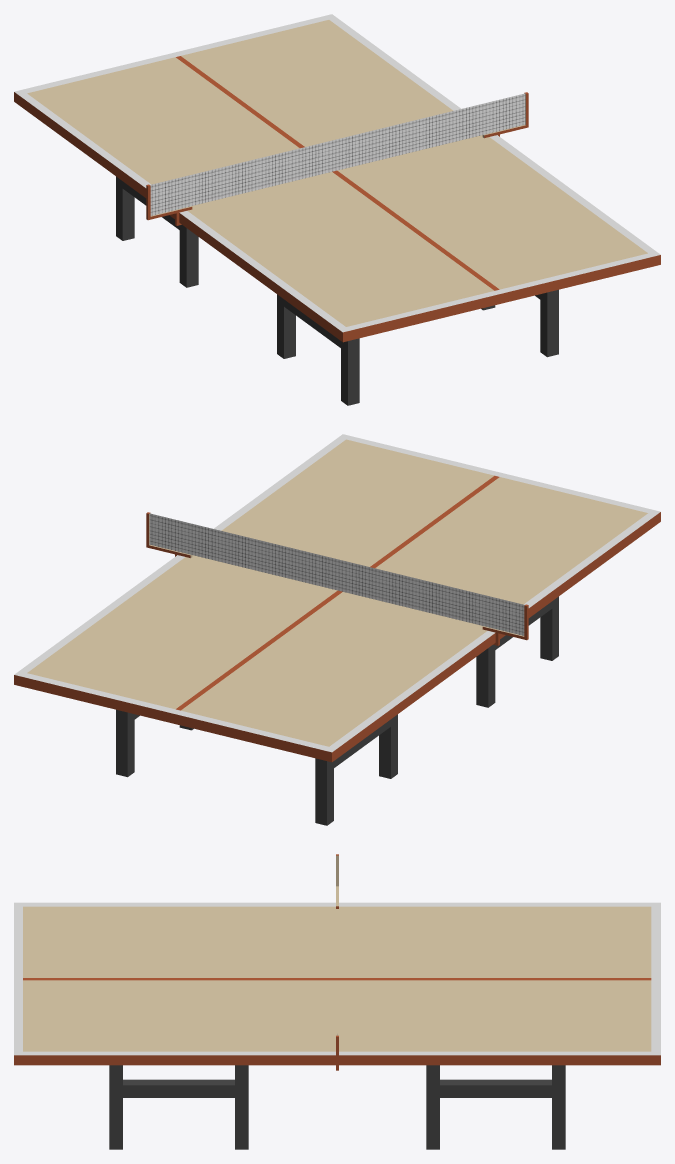
Rendered from _PingPongMasters_table.fbx.
3 views of the same model, one above another, from view 1: azimuth 30°, elevation 25°; view 2: azimuth 150°, elevation 25°; view 3: azimuth 270°, elevation 25° (orthographic).
Parts seen in each view (by area): view 1: table; view 2: table; view 3: table.
Boxes of the visible parts, bbox=[...] form: table: bbox=[14, 14, 660, 405]; table: bbox=[14, 434, 660, 825]; table: bbox=[14, 854, 660, 1149].
Size of the model in its own units: 0.4389 by 0.6567 by 0.1718.
5 materials, 1 textured.
